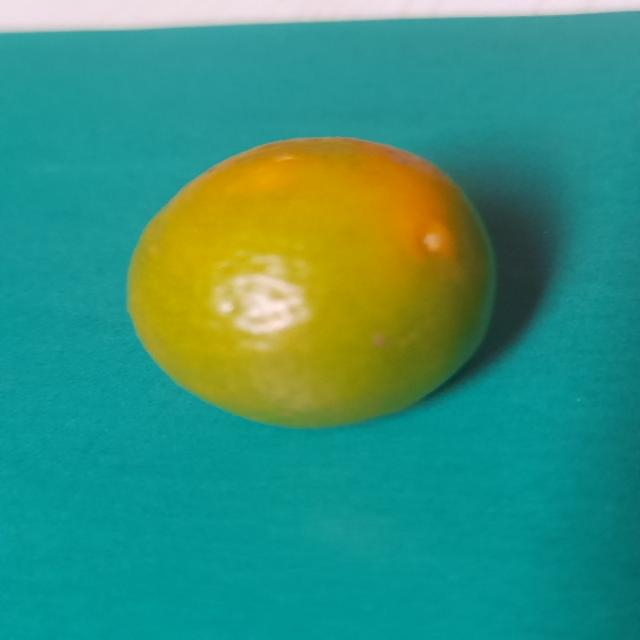greening: (110, 129, 504, 428)
